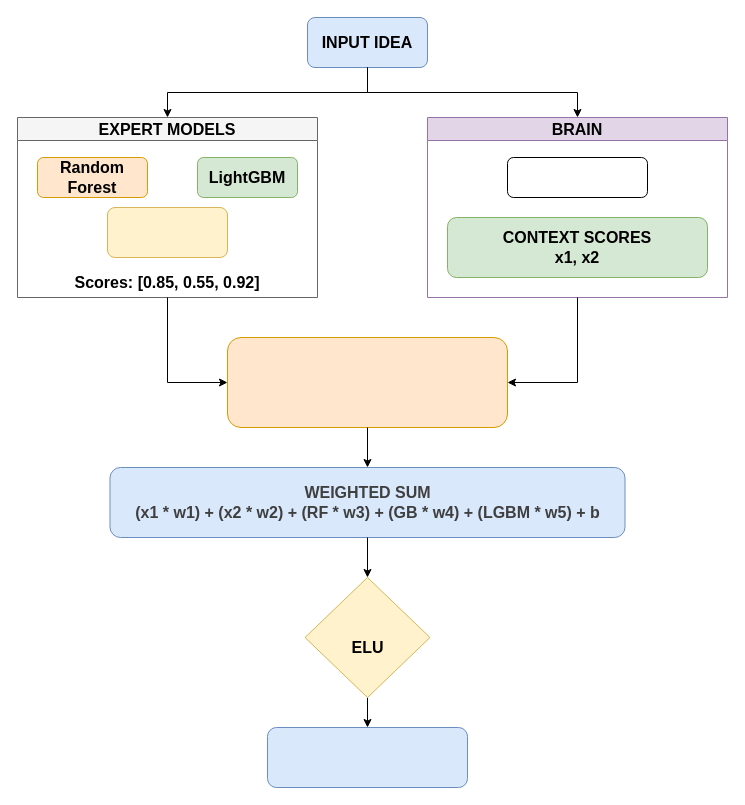
This 745x805 diagram has some shape labels left out. Each missing label, with the centre of its shape:
COMPARE WITH GROUND LABEL & WEIGHTS THE EXPERTS: (367,382)
Context Analysis: (577,177)
FINAL PREDICTION: (367,757)
Gradient Boosing: (167,232)
